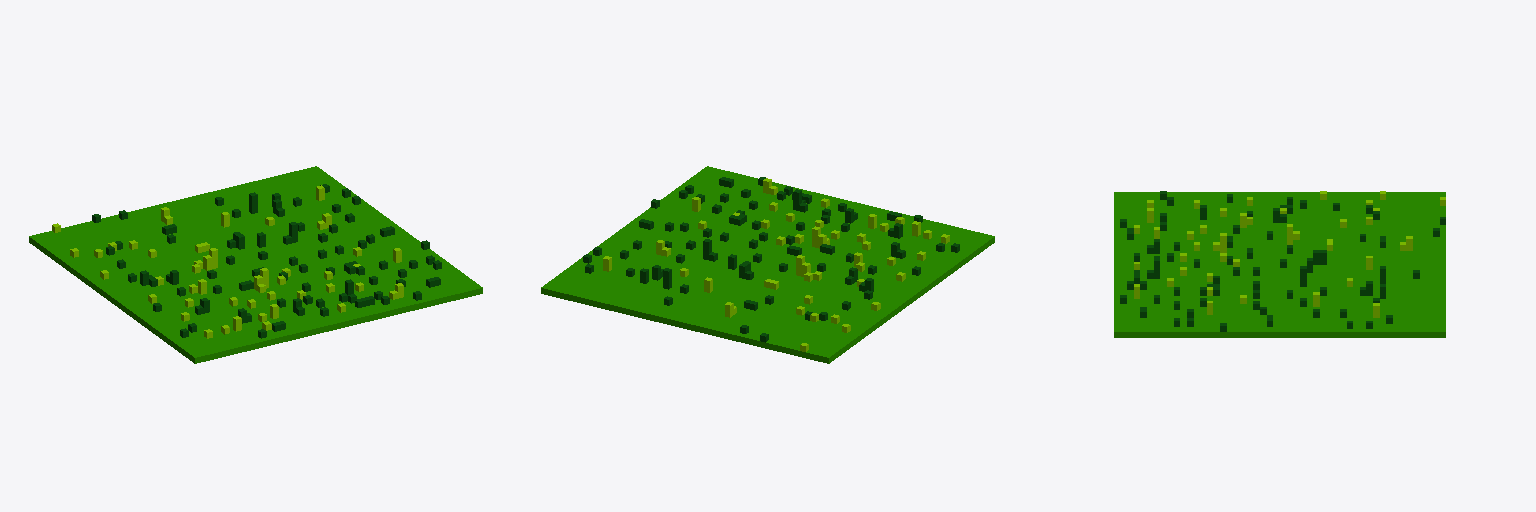
The picture shows the model from 3 angles: view 1: azimuth 30°, elevation 25°; view 2: azimuth 150°, elevation 25°; view 3: azimuth 270°, elevation 25°; orthographic projection.
Visible parts, largest first — view 1: object 1; view 2: object 1; view 3: object 1.
Part boxes in pixels (x1,y1,x2,y2): object 1: (29, 166, 482, 363); object 1: (541, 166, 994, 363); object 1: (1114, 191, 1445, 337).
Bounding box in the file's own units: 5 × 0.4 × 5.
1 materials, 1 textured.